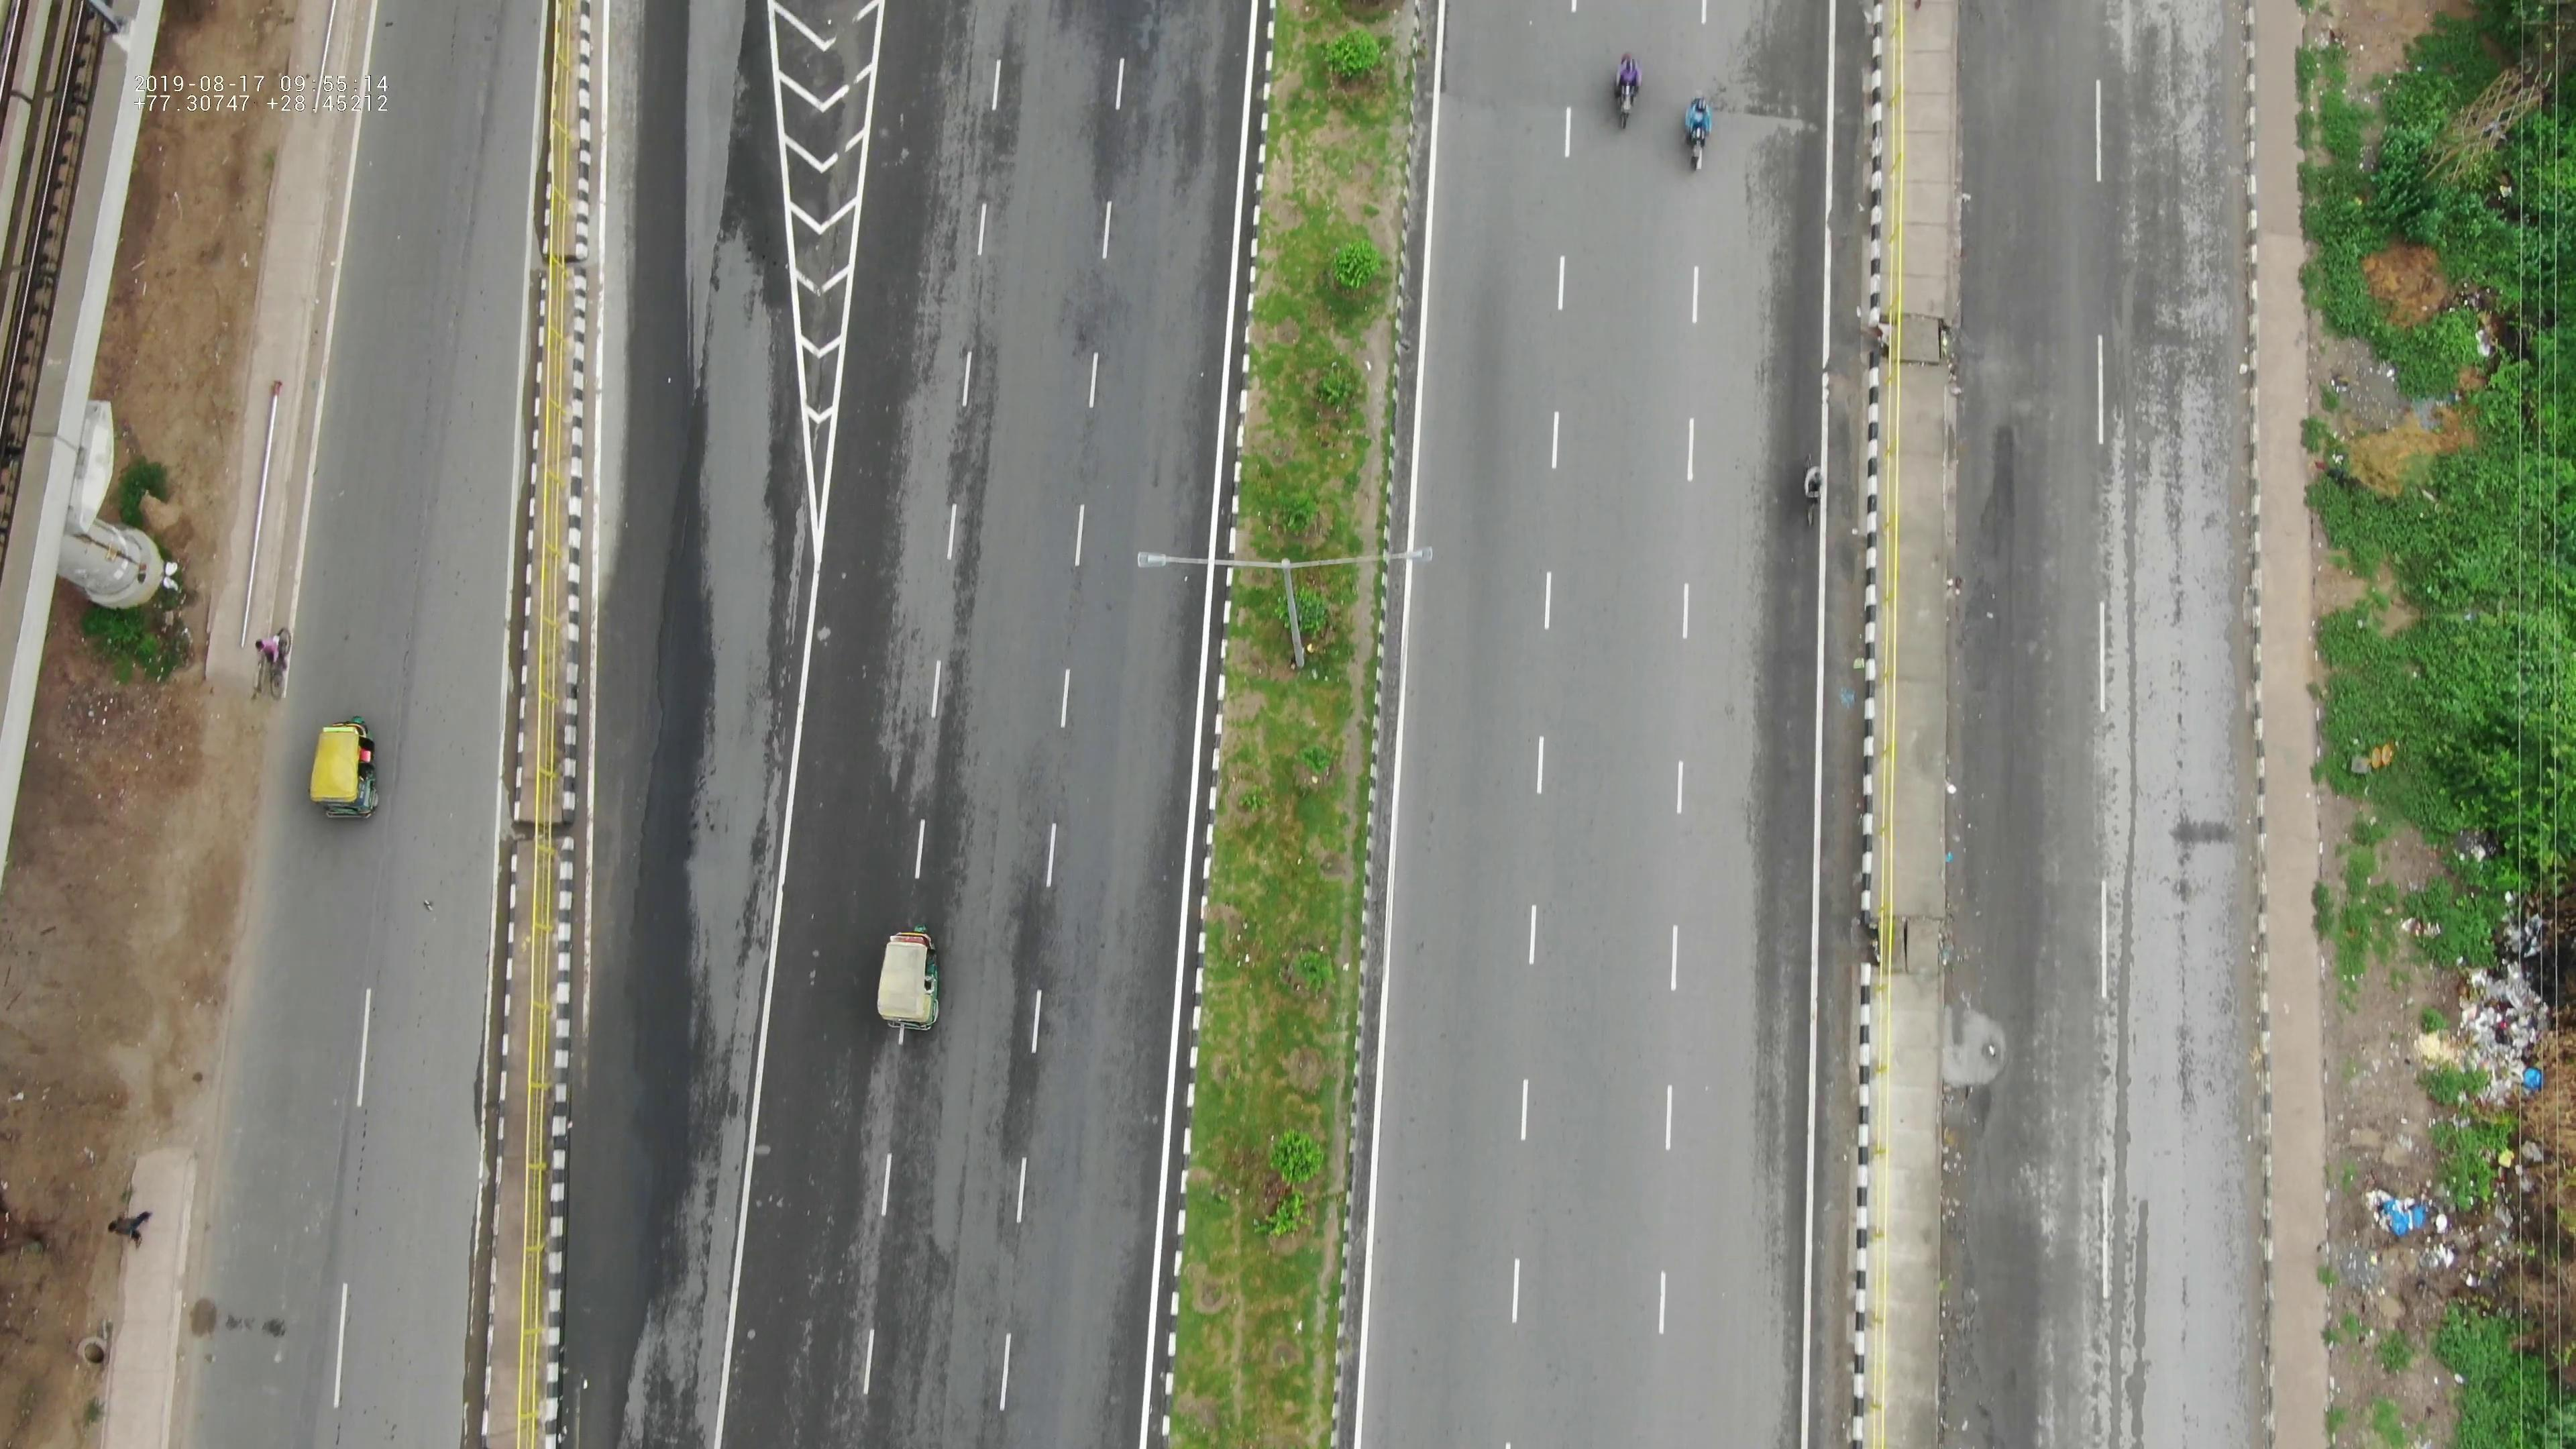Road_side_garbage: (2341, 901, 2564, 1283)
